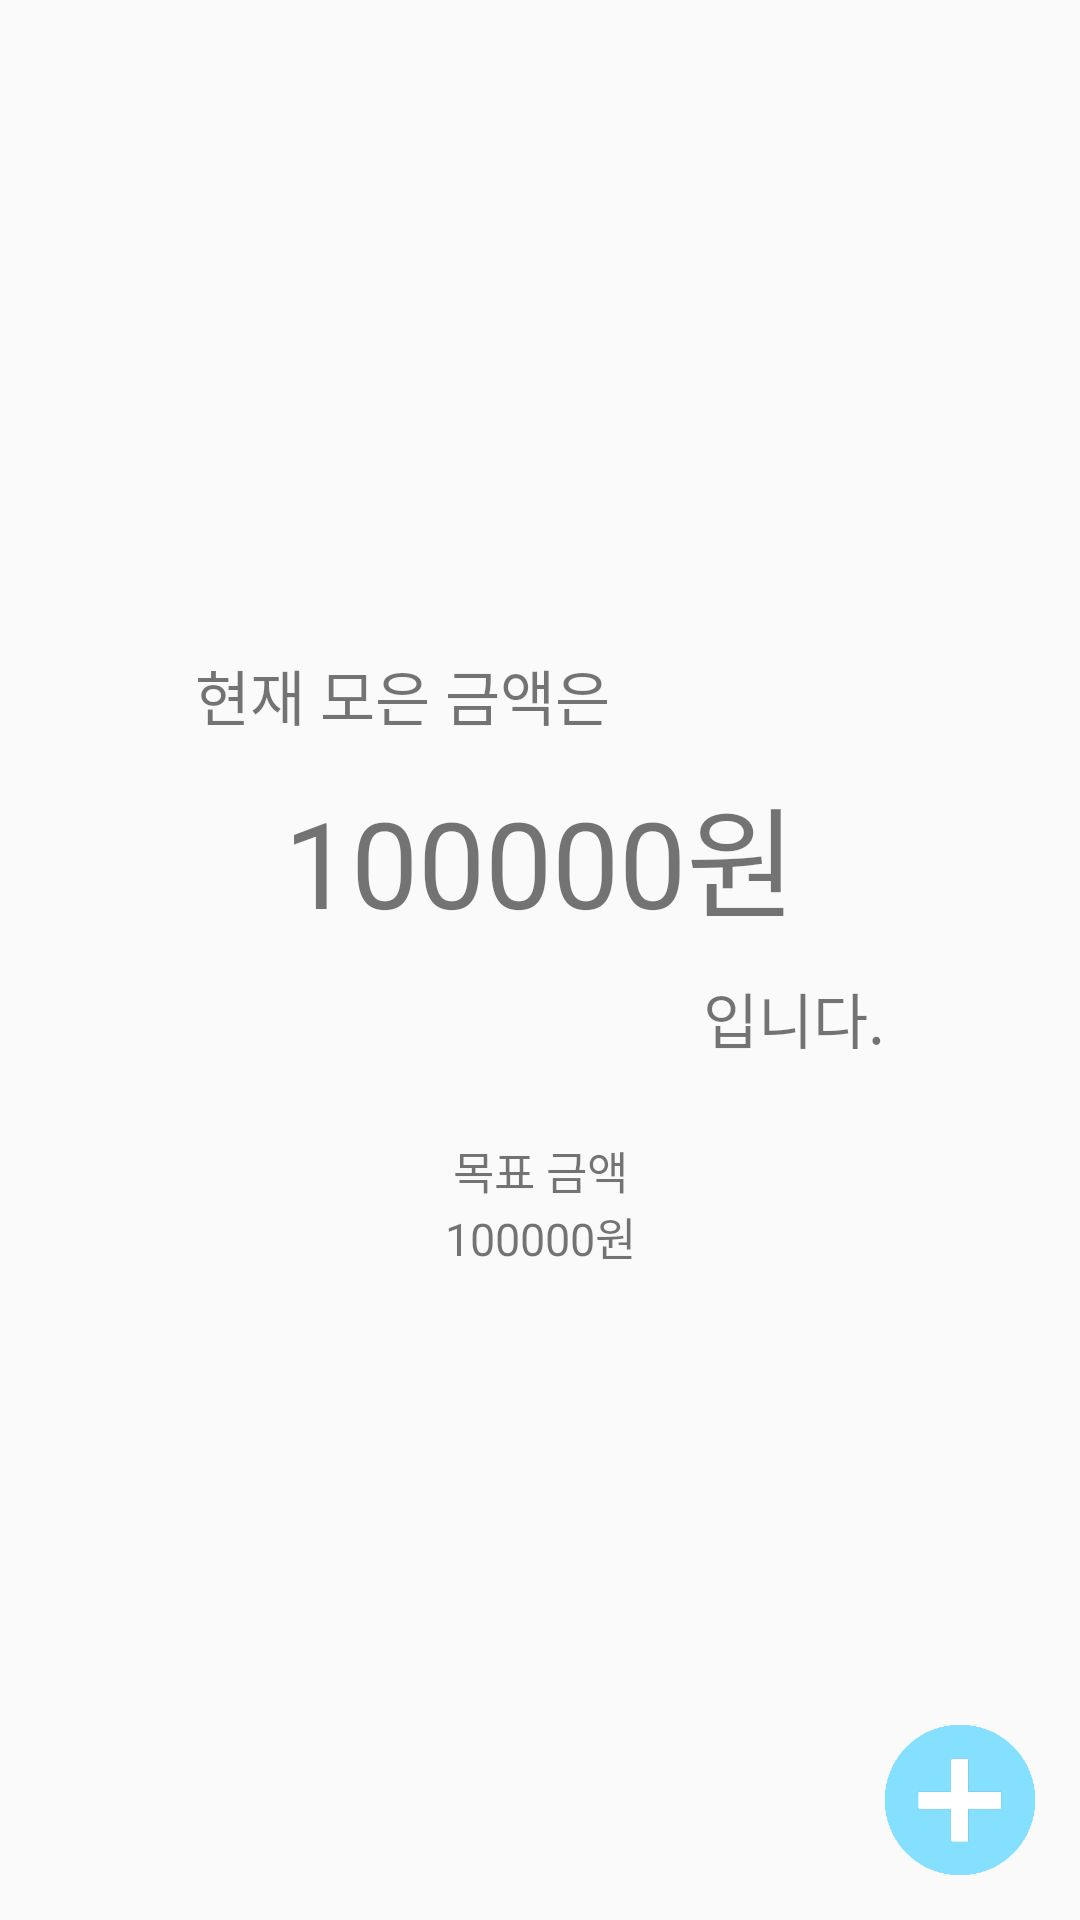

Icons on this 1080 x 1920 Android screen, each with its box as BBox(x1, y1, x2, y2):
add: BBox(885, 1725, 1035, 1875)
